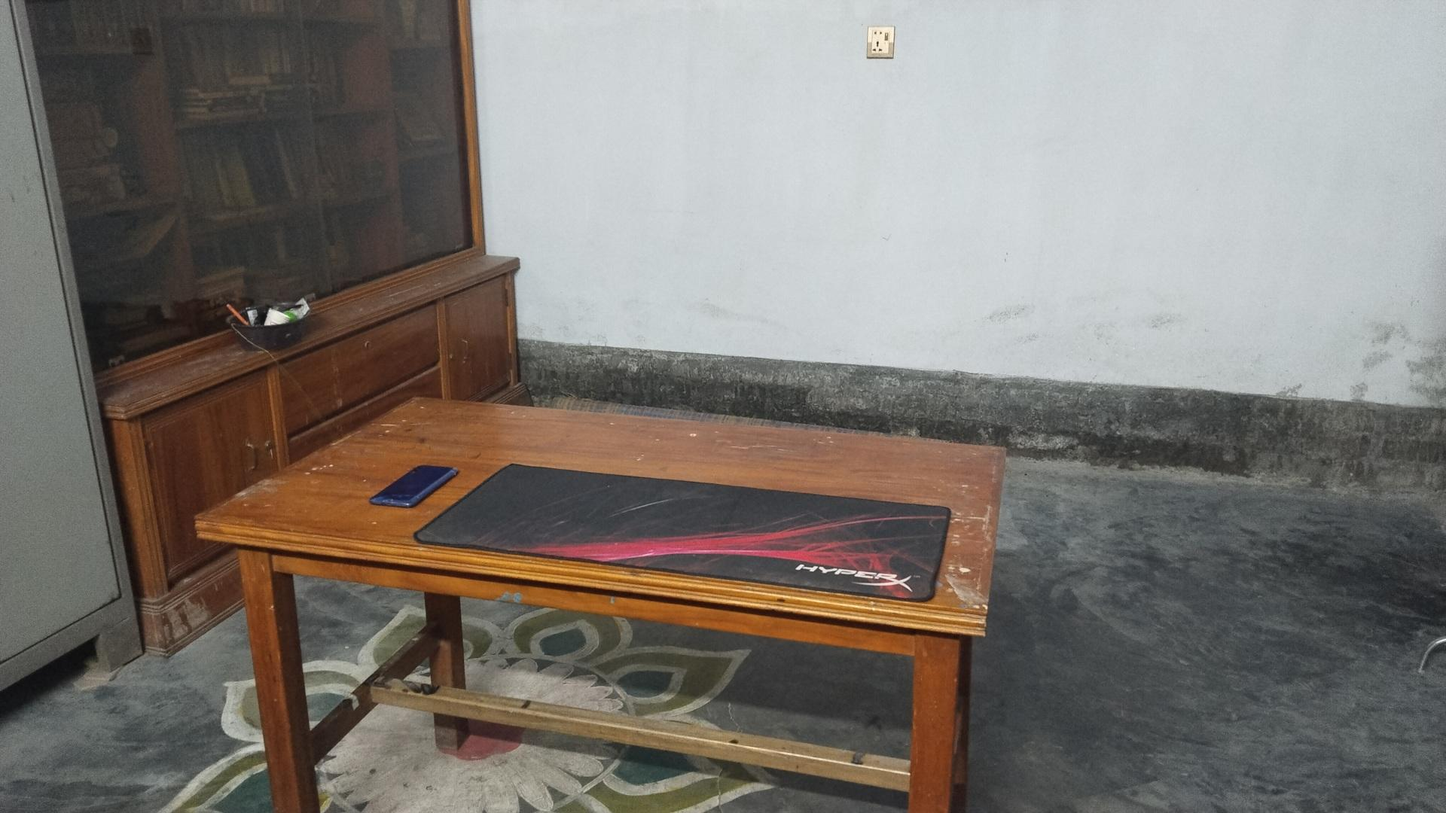Phone: (372, 457, 459, 527)
Table: (195, 383, 1000, 813)
